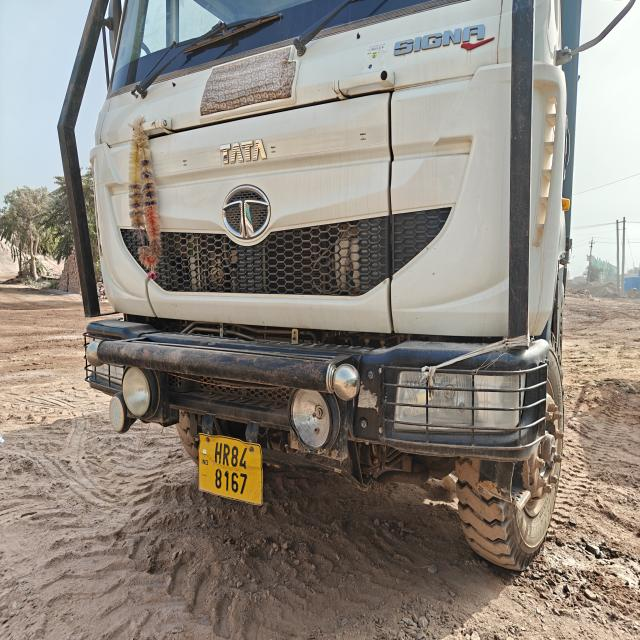license_plate: (199, 434, 262, 504)
